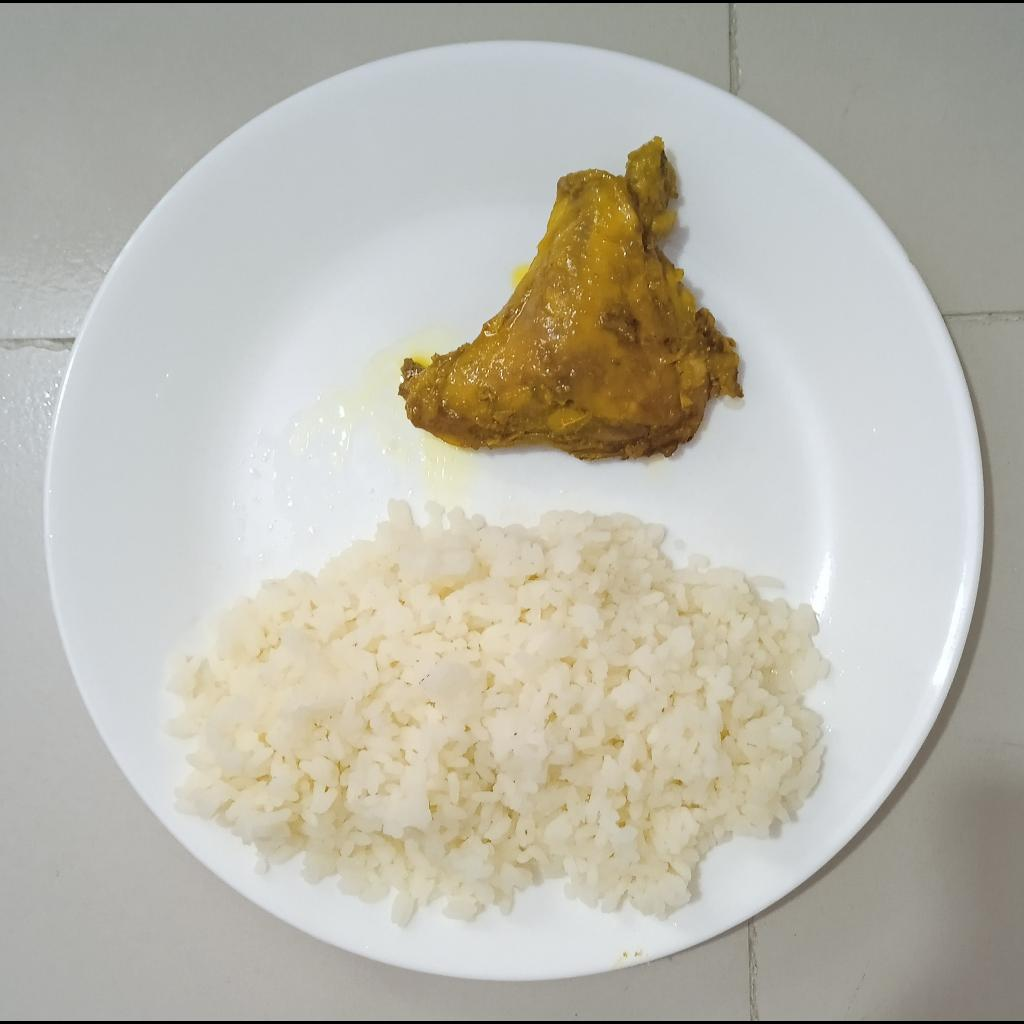chicken: (401, 140, 744, 460)
rice: (165, 504, 824, 926)
